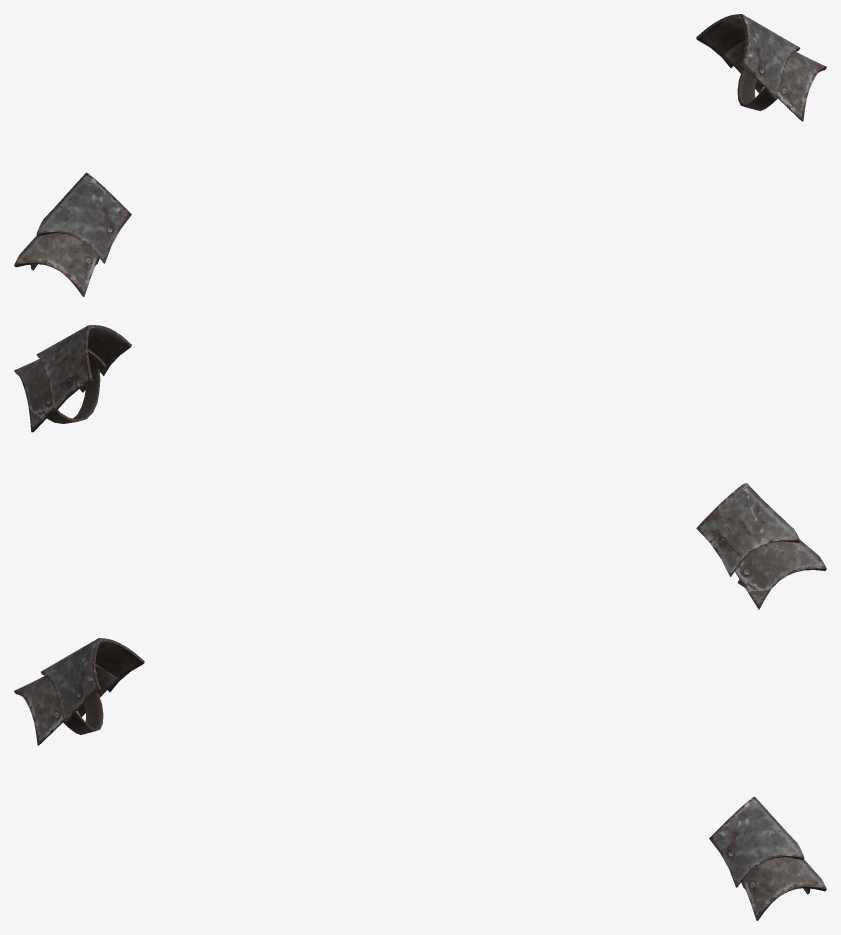
Rendered from sk_gb_uruk_bracer_med_c.fbx.
3 views of the same model, one above another, from view 1: azimuth 30°, elevation 25°; view 2: azimuth 150°, elevation 25°; view 3: azimuth 330°, elevation 25° (orthographic).
Parts seen in each view (by area): view 1: sk_gb_uruk_bracer_med_c; view 2: sk_gb_uruk_bracer_med_c; view 3: sk_gb_uruk_bracer_med_c.
Boxes of the visible parts, x1=… form: sk_gb_uruk_bracer_med_c: x1=14, y1=14, x2=826, y2=296; sk_gb_uruk_bracer_med_c: x1=14, y1=325, x2=826, y2=609; sk_gb_uruk_bracer_med_c: x1=14, y1=638, x2=826, y2=920.
Bounding box in the file's own units: 1.45 × 0.161 × 0.1741.
Materials: 1 (1 with a texture image).
